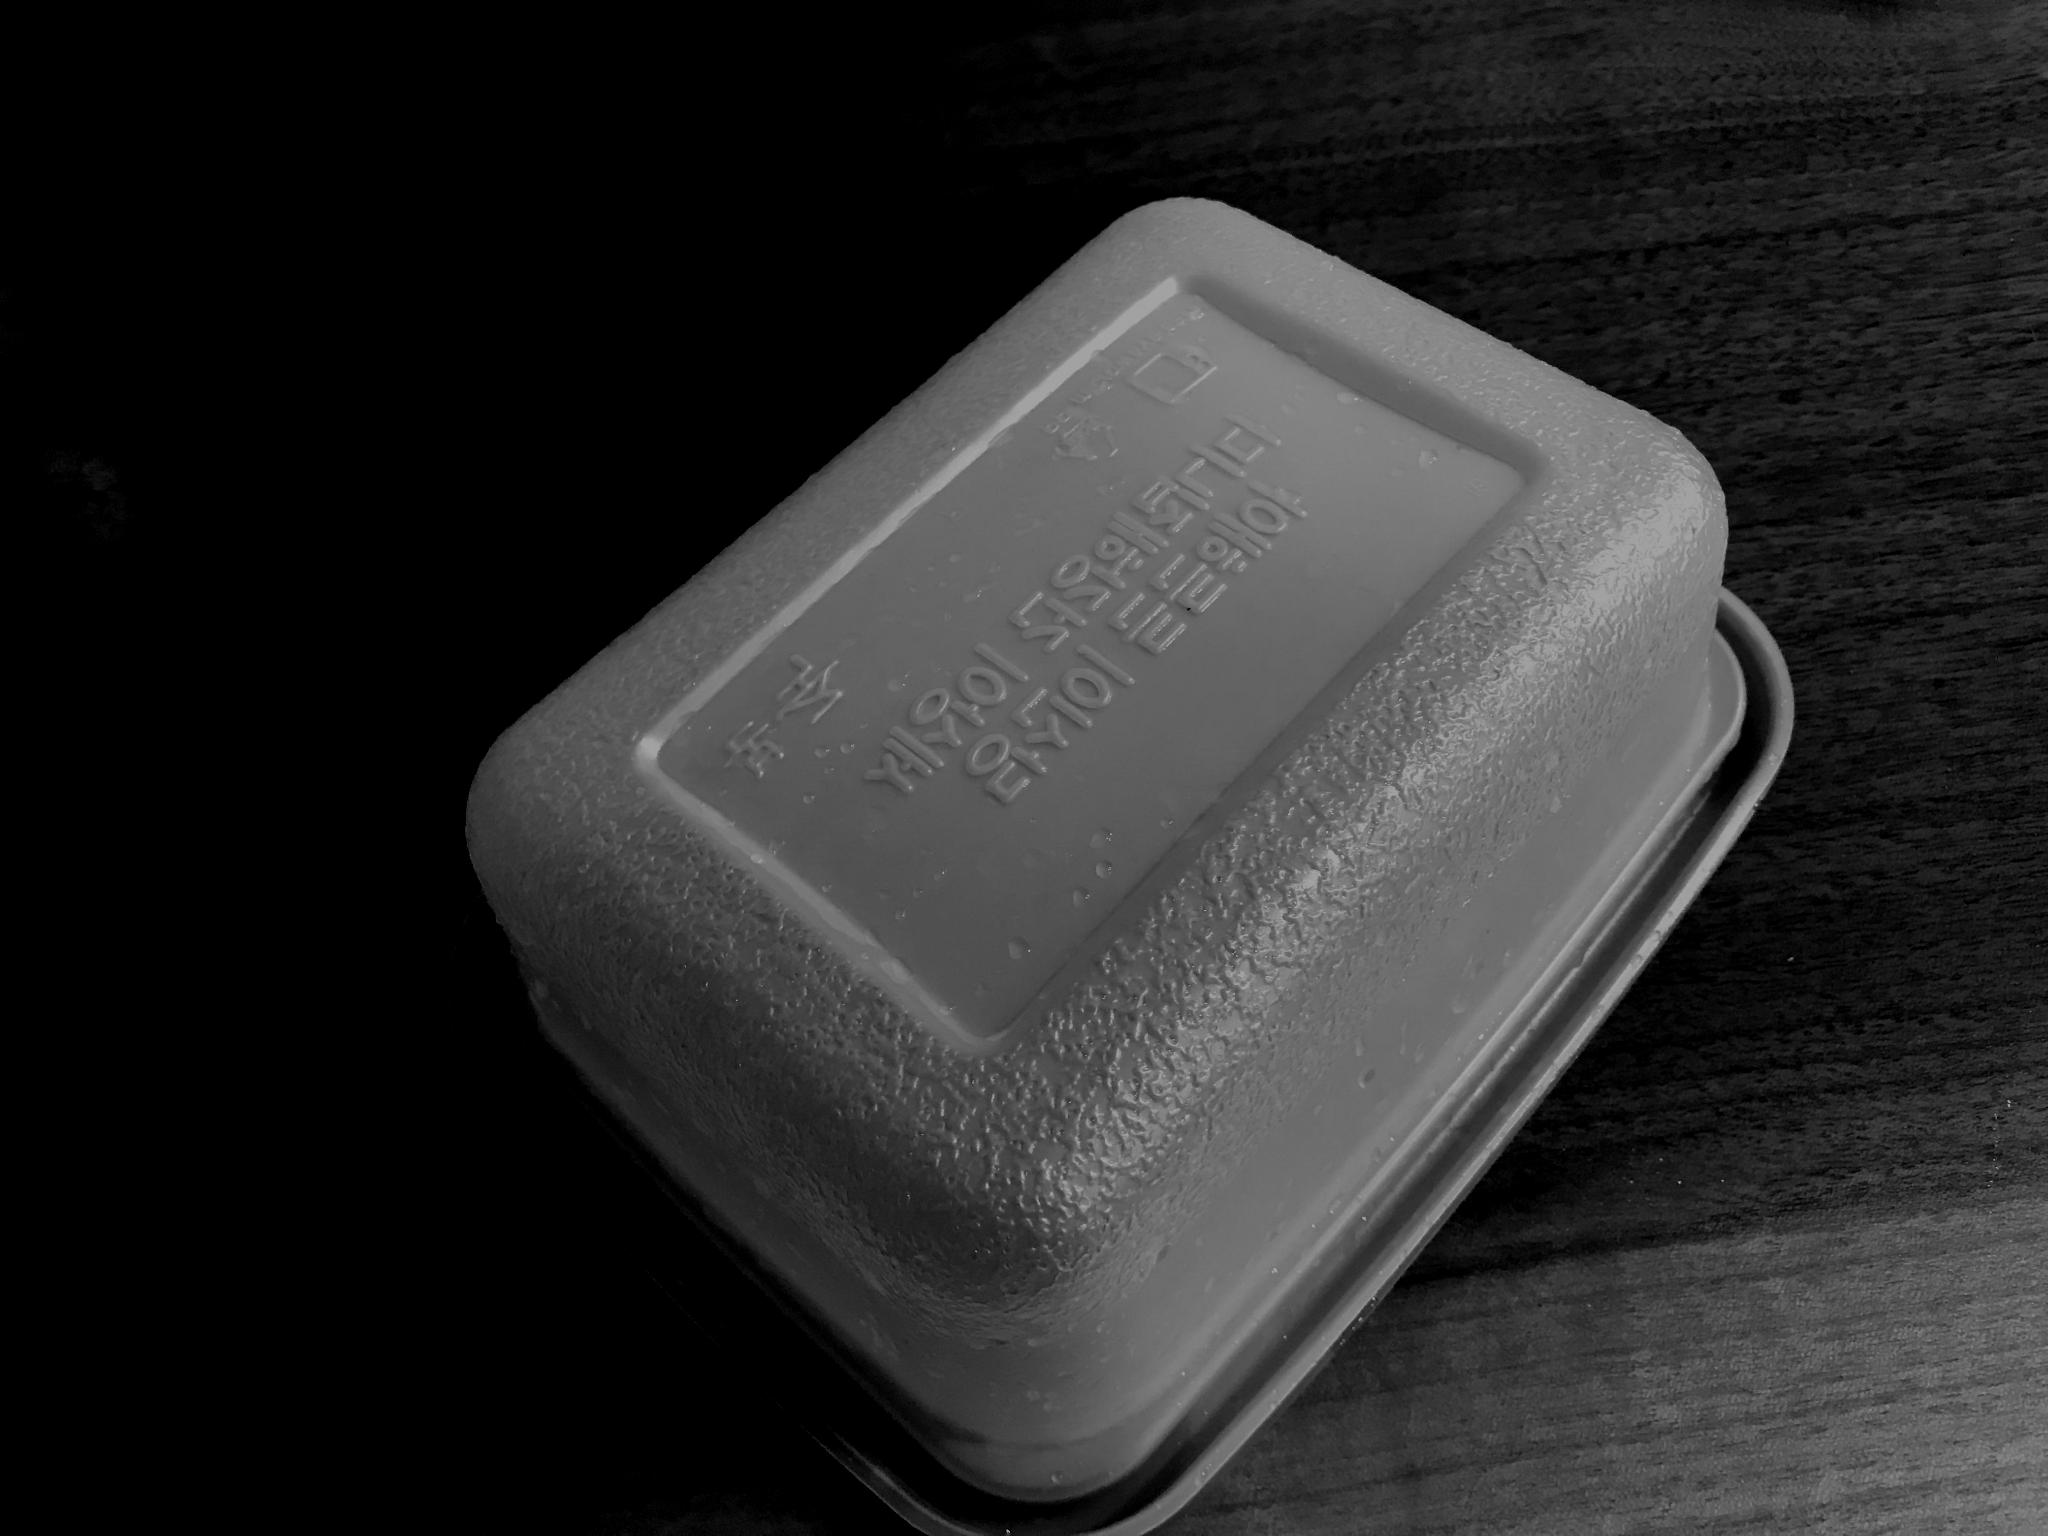bottle: (392, 849, 1824, 860)
